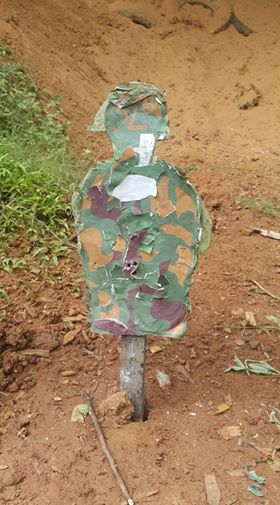Bullet: (130, 271, 137, 277), (132, 261, 137, 266), (126, 263, 130, 268)
